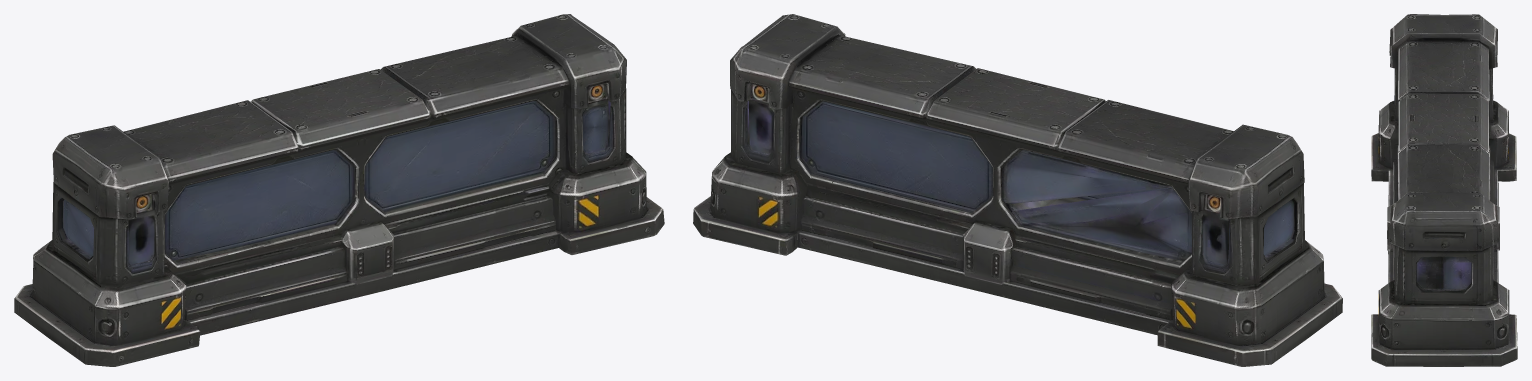
Rendered from half_wall.glb.
The picture shows the model from 3 angles, left to right: view 1: azimuth 30°, elevation 25°; view 2: azimuth 150°, elevation 25°; view 3: azimuth 270°, elevation 25°; orthographic projection. The views are drawn at different scales.
Visible parts, largest first — view 1: mesh_node; view 2: mesh_node; view 3: mesh_node.
Boxes of the visible parts, <box> form: mesh_node: <box>14,14,664,366</box>; mesh_node: <box>693,14,1342,366</box>; mesh_node: <box>1371,14,1517,366</box>.
Bounding box in the file's own units: 1 × 0.292 × 0.2745.
1 material, 1 textured.
